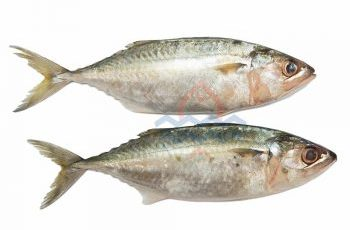Mackerel: (23, 119, 341, 210), (6, 34, 319, 116)
